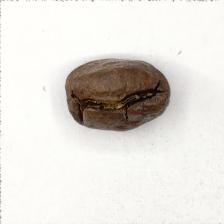NG: (70, 68, 165, 126)
